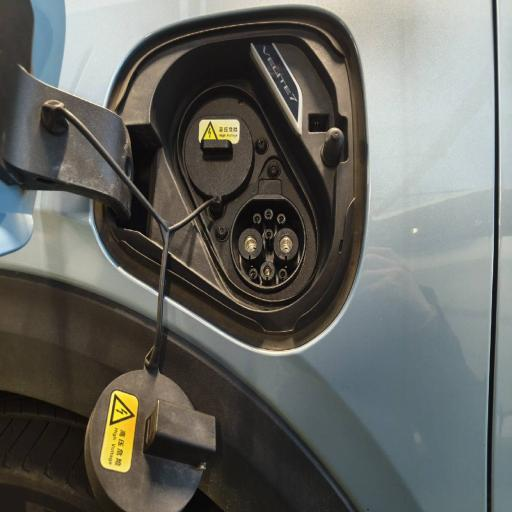DC_hole: (272, 227, 300, 263), (238, 225, 263, 261)
PE: (259, 261, 276, 282)
charging_port: (229, 192, 308, 292)
